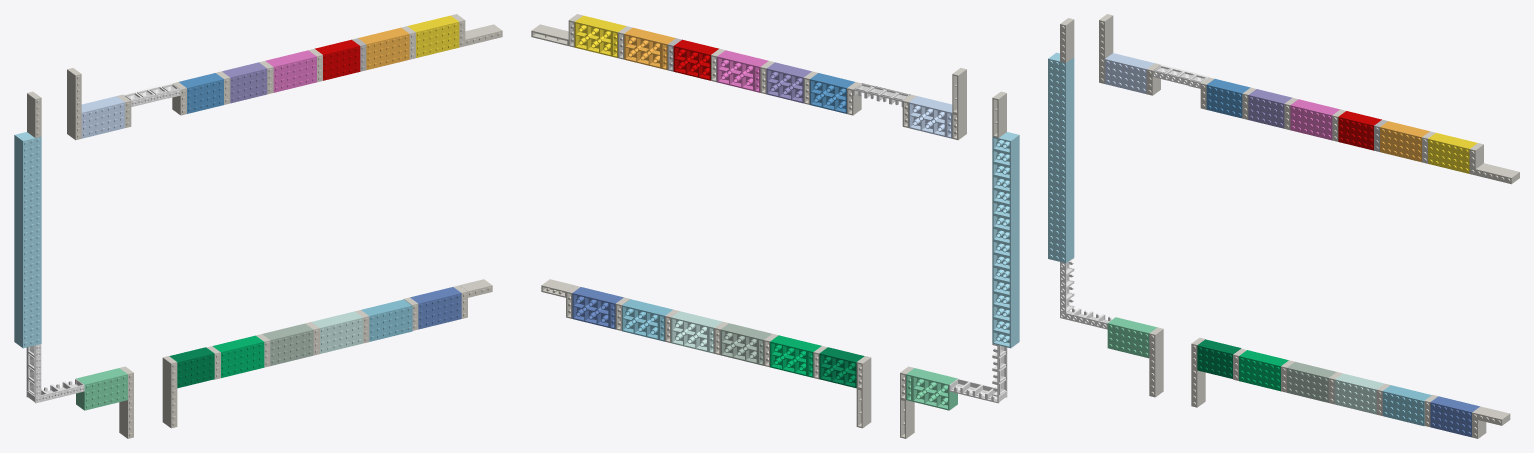
File: FullRestaurantLego.fbx
3 views of the same model, side by side, from view 1: azimuth 30°, elevation 25°; view 2: azimuth 150°, elevation 25°; view 3: azimuth 330°, elevation 25° (orthographic). The views are drawn at different scales.
Parts seen in each view (by area): view 1: restaurangboxs; view 2: restaurangboxs; view 3: restaurangboxs.
Part boxes in pixels (<box>): restaurangboxs: <box>14,14,502,438</box>; restaurangboxs: <box>531,14,1019,438</box>; restaurangboxs: <box>1048,14,1519,438</box>.
Size of the model in its own units: 155000 by 116200 by 5320.
